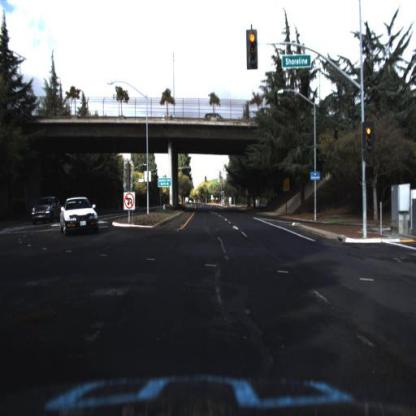car: (61, 195, 98, 239), (31, 191, 65, 225), (31, 193, 60, 230)
trafficLight: (363, 120, 375, 157)
trafficLight-Red: (247, 32, 257, 72)
